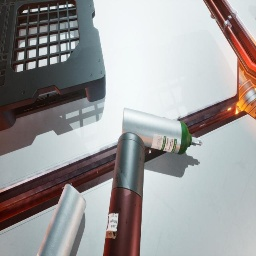0: (121, 107, 203, 155), (36, 184, 86, 256)
NitrogenTank ,: (103, 132, 145, 256)
